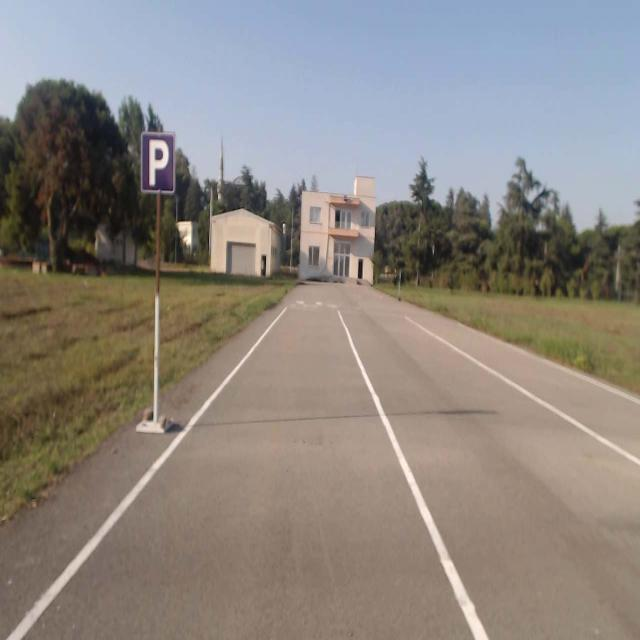park: (140, 132, 174, 193)
